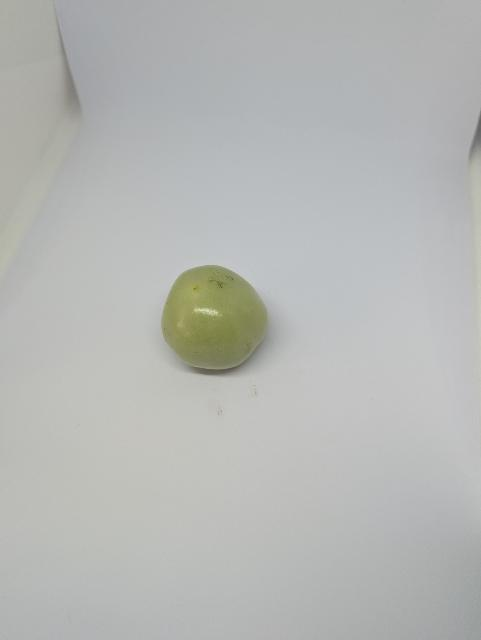green: (161, 261, 270, 381)
